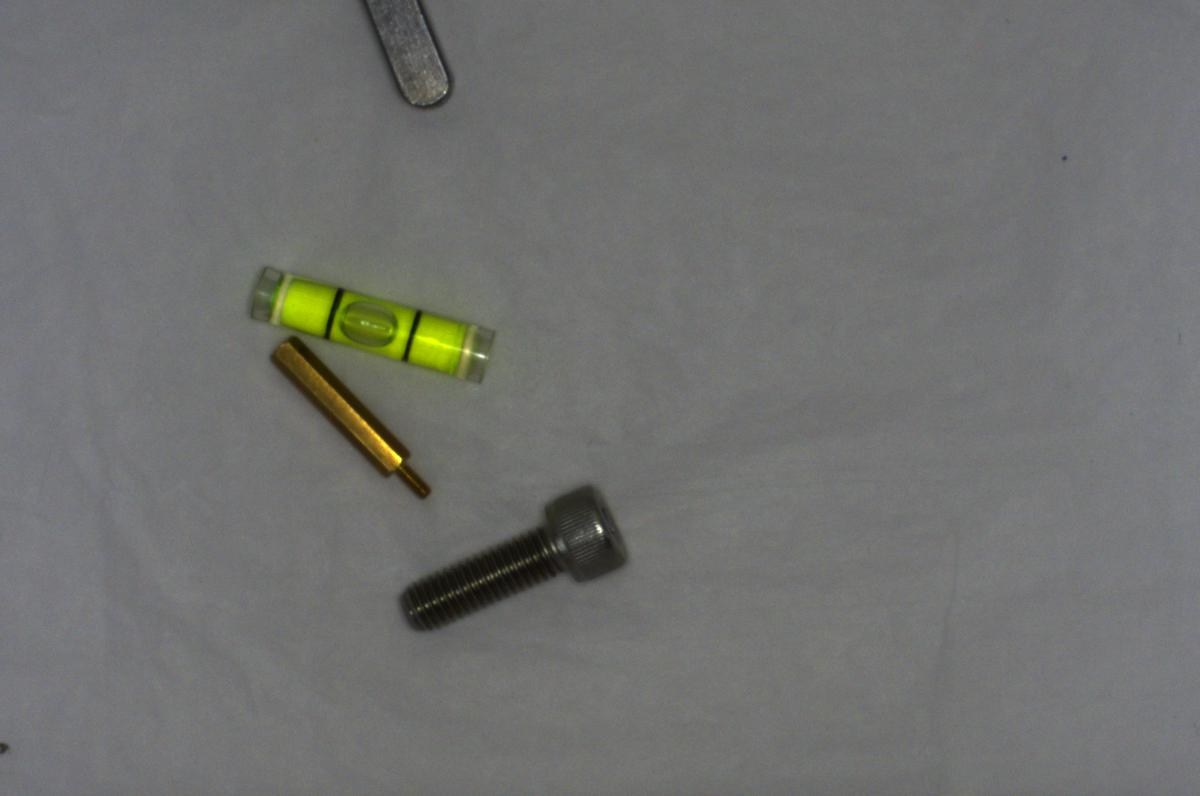Hexagon pillar: (270, 332, 435, 505)
Hexagon screw: (388, 475, 640, 636)
Horizontal bubble: (232, 258, 491, 382)
Keybar: (358, 6, 466, 115)
